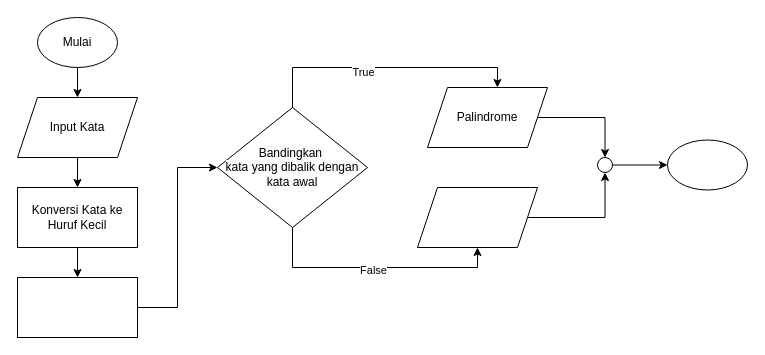
Image size: 765x355. Some labels were removed from this diagram. The shapes that lost their labels are listed below. From the top down, each one's box as (x1, y1, x2, y2) in pixels, then its label:
(666, 139, 748, 190): Selesai
(416, 186, 538, 248): Bukan Palindrome
(16, 276, 138, 338): Balik Kata
